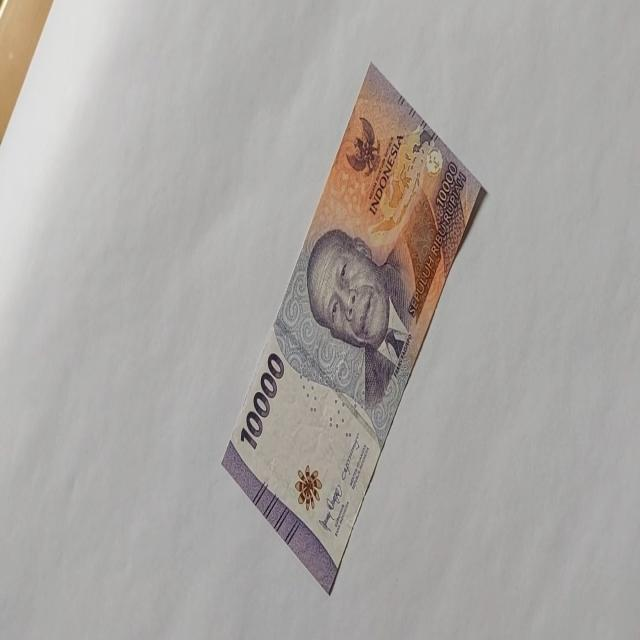sepuluh ribu rupiah: (220, 60, 486, 596), (305, 226, 415, 409), (238, 350, 284, 452)
